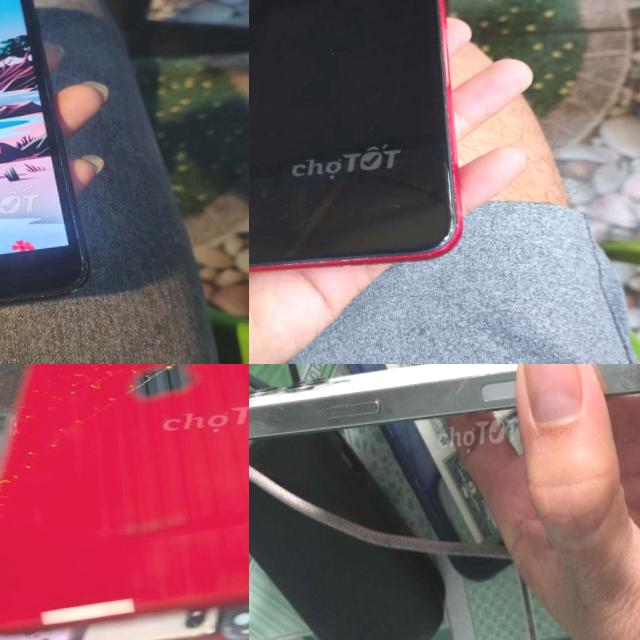scratch: (249, 381, 387, 444), (44, 124, 90, 282), (0, 286, 87, 315), (422, 207, 474, 252), (438, 366, 472, 413), (249, 256, 318, 274), (336, 248, 368, 270)
